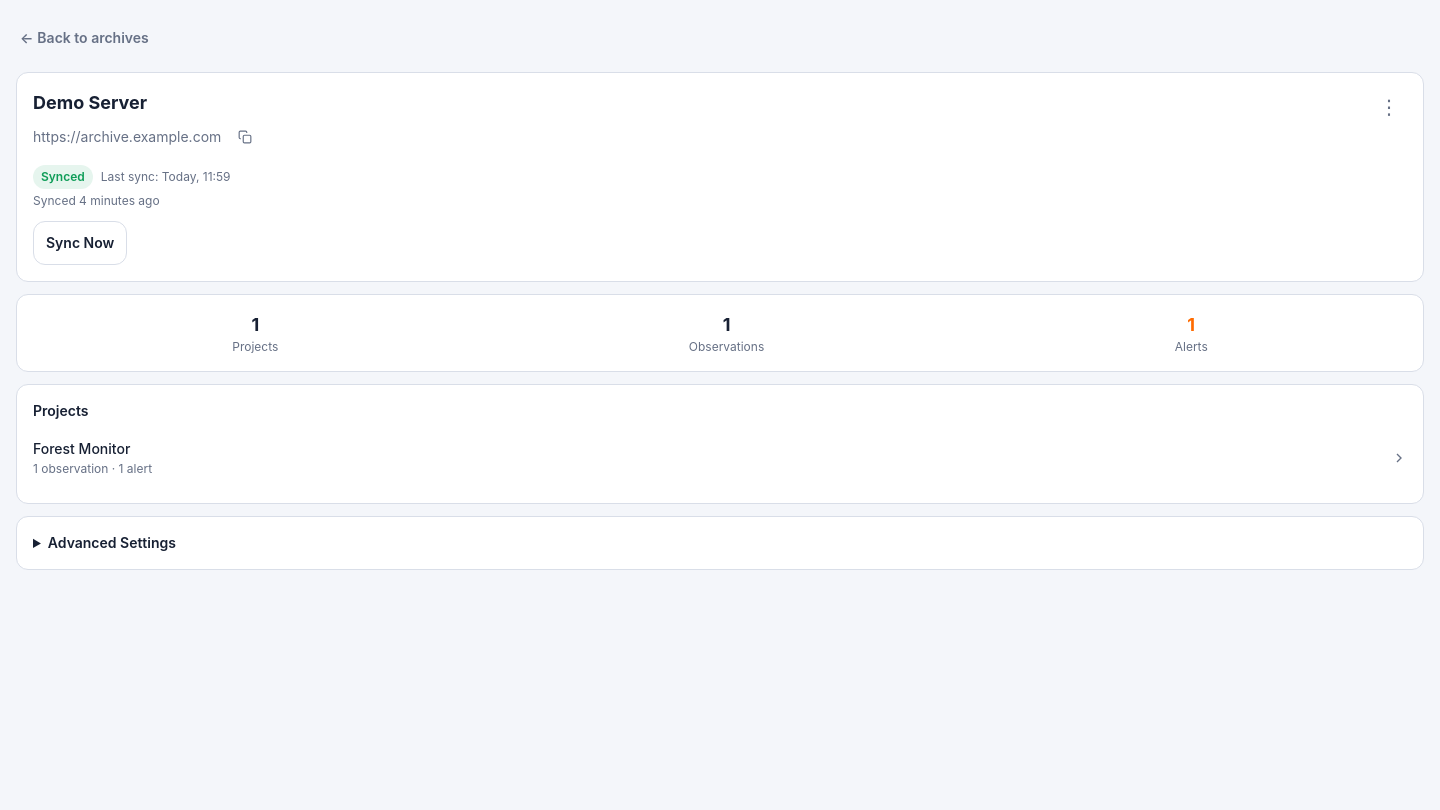
Test case: ArchiveServerDetail › opens the edit dialog from the overflow menu
Click the button named "archive actions" at (1389, 107), box [1371, 89, 1407, 125]
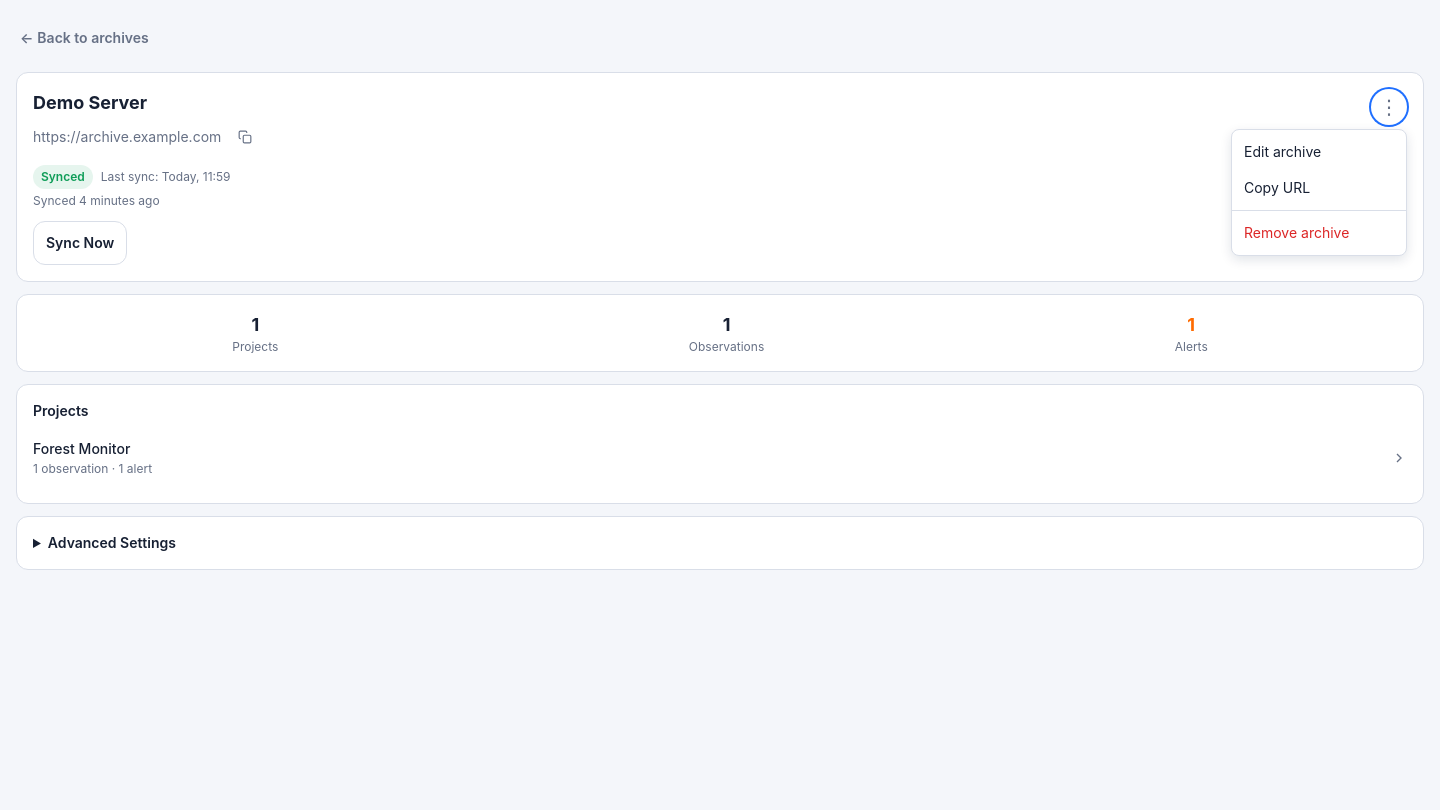
Click the menu item "Edit archive" at (1319, 152), box [1232, 134, 1406, 170]
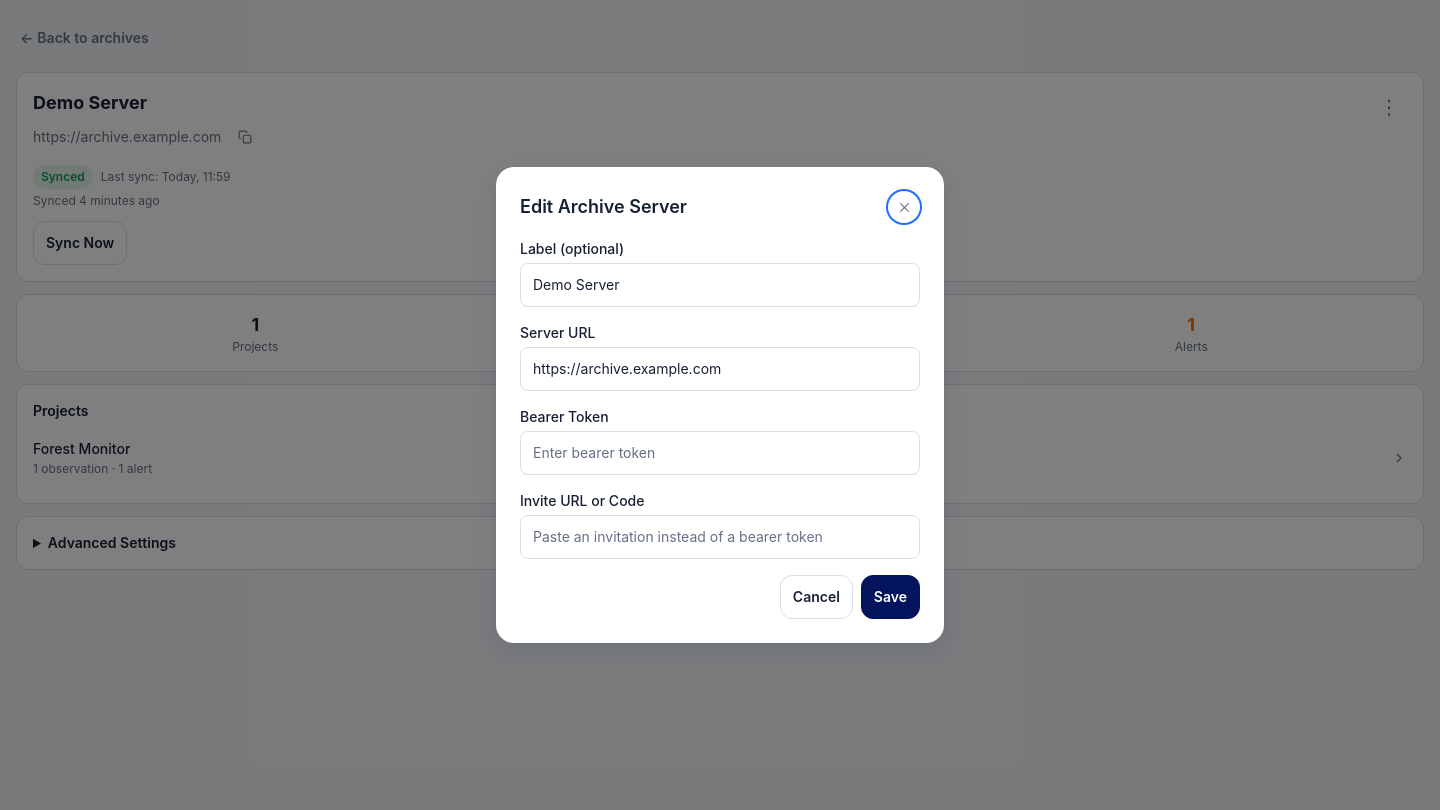
Result: the heading "Edit Archive Server" is shown at [520, 193, 687, 221]
